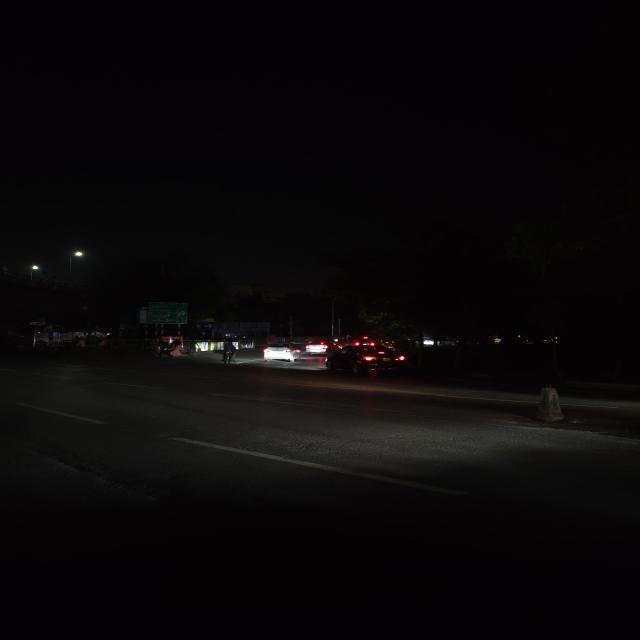car: (325, 342, 409, 376), (258, 341, 312, 365)
motorcycle: (219, 338, 238, 366)
